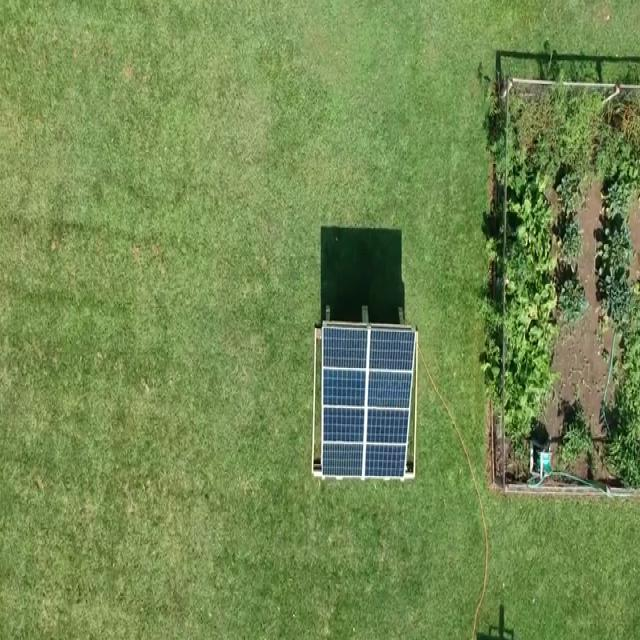Normal Solar Panel: (321, 326, 417, 480)
